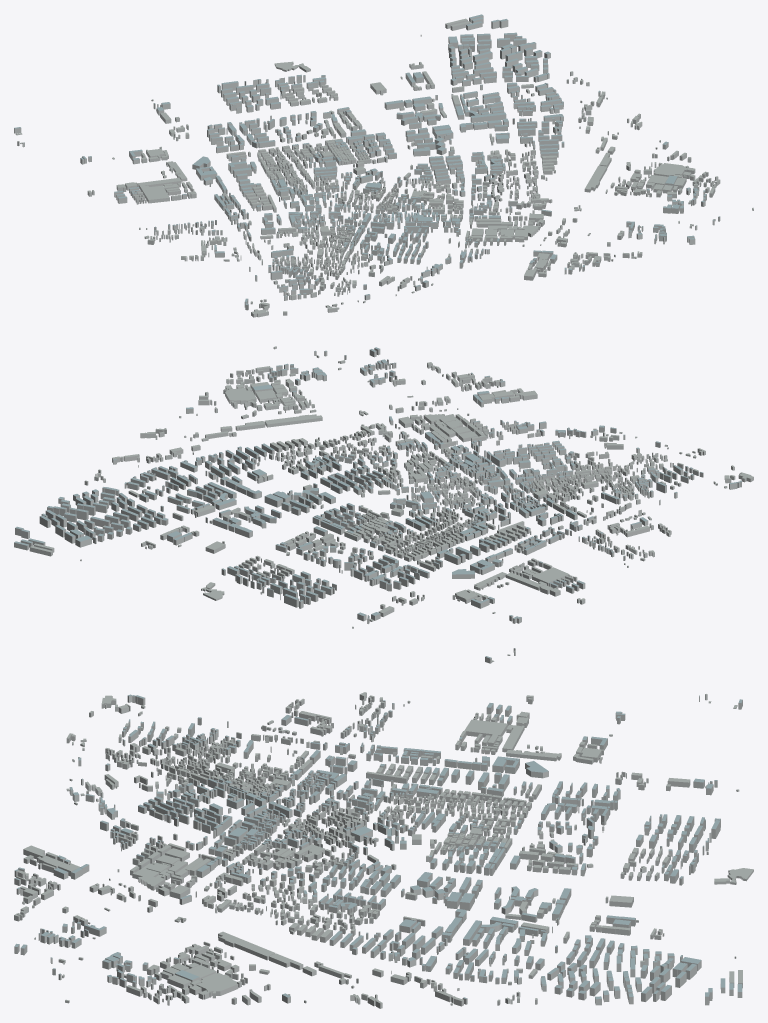
Rendered from far.glb.
3 views of the same model, one above another, from view 1: azimuth 30°, elevation 25°; view 2: azimuth 150°, elevation 25°; view 3: azimuth 270°, elevation 25° (orthographic). The views are drawn at different scales.
Bounding box in the file's own units: 2135 × 33 × 2143.
